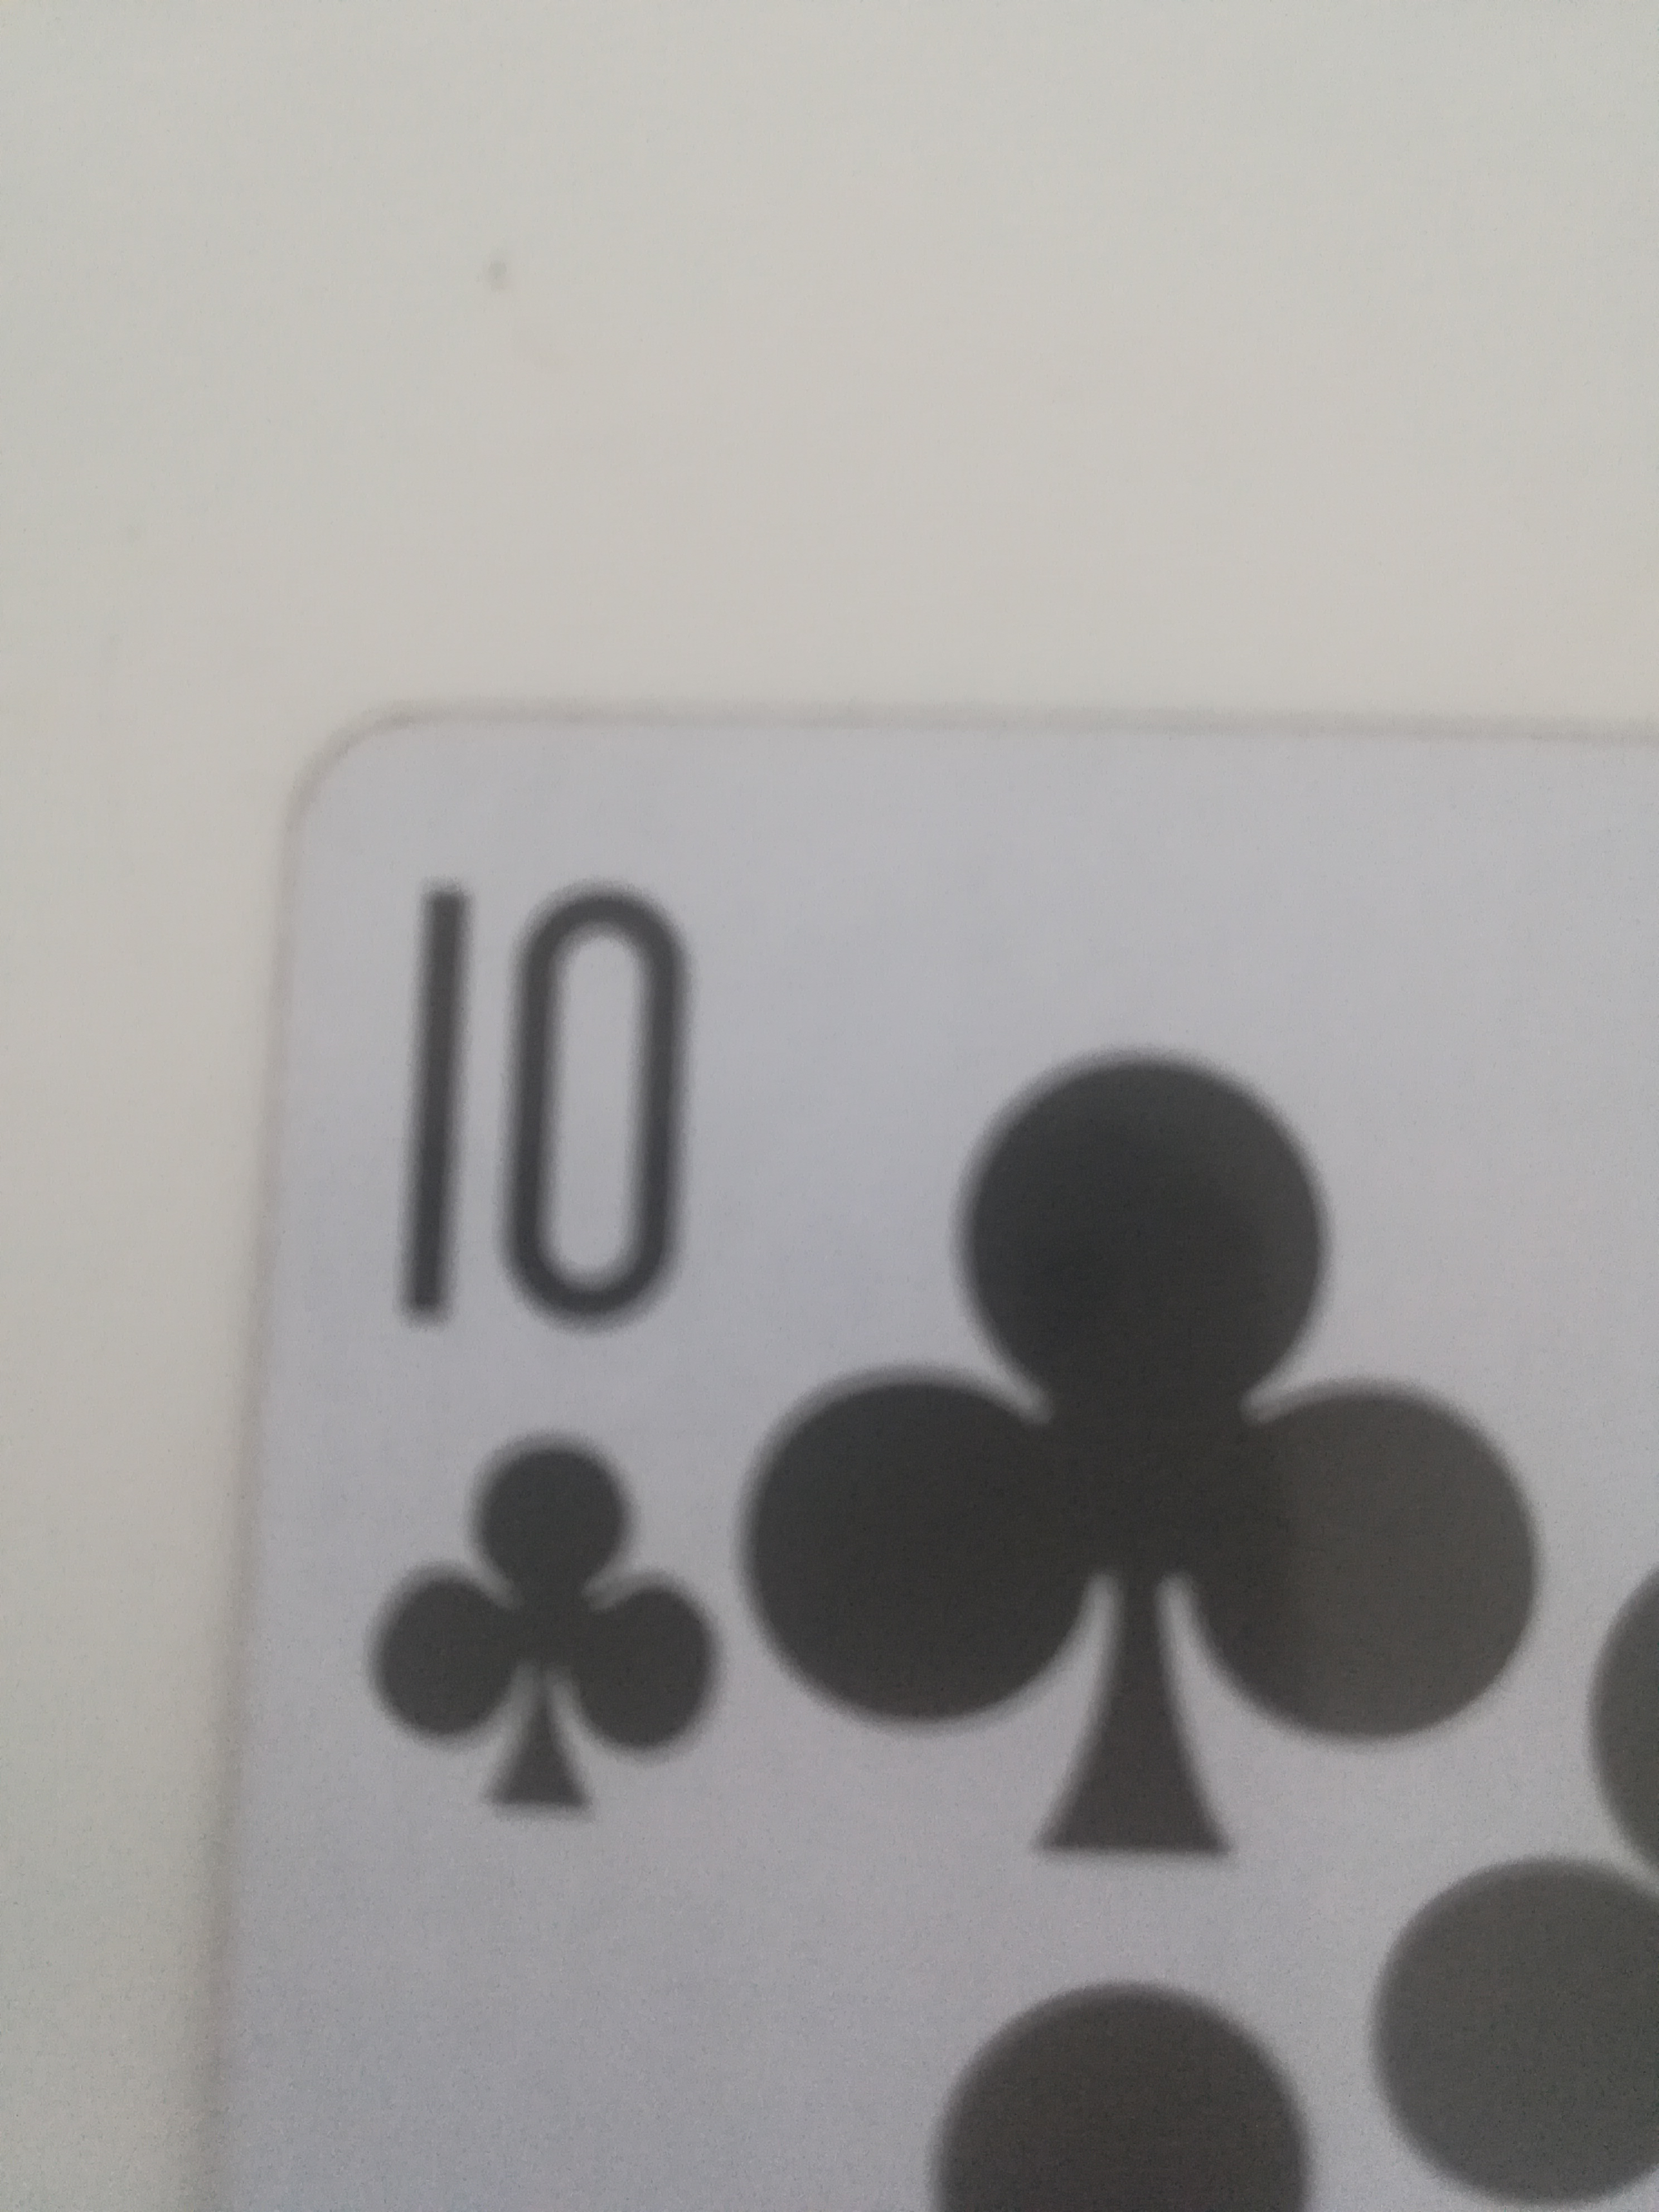10C: (214, 697, 1652, 2212)
